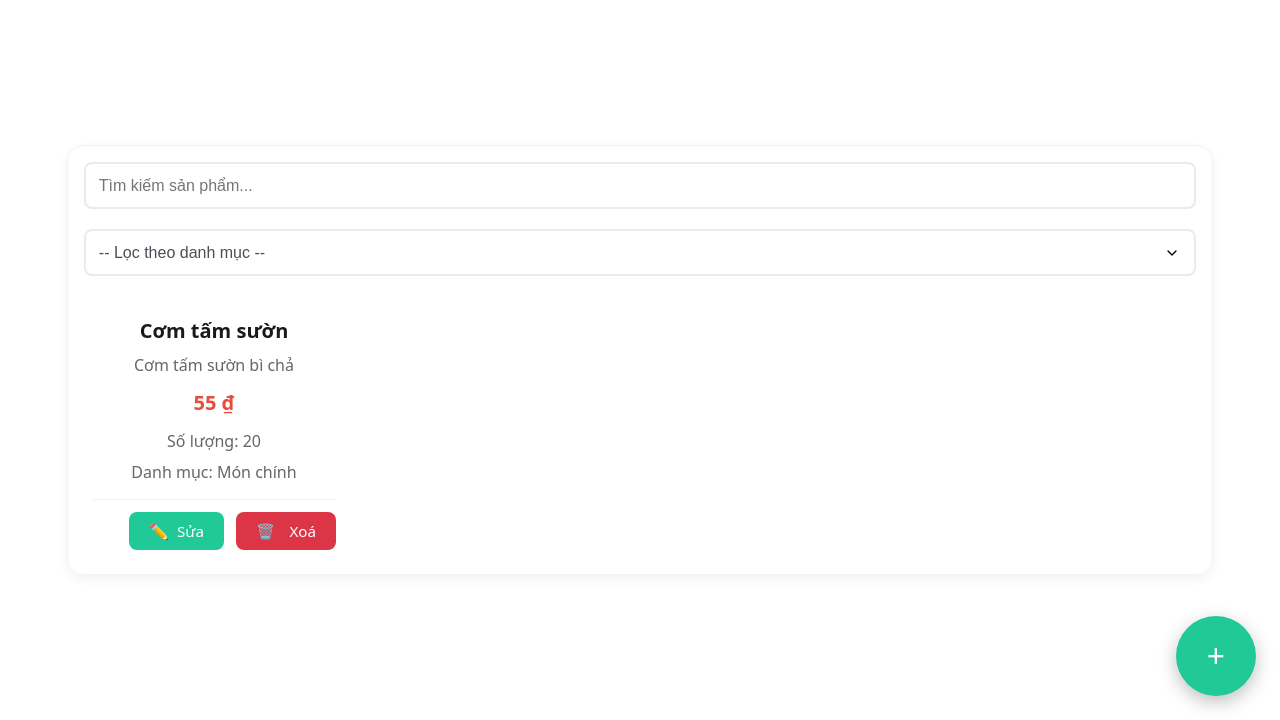
Test: ProductPage Integration Test › Xem chi tiết sản phẩm
The image size is (1280, 720).
Click the button with test id "edit-btn-100" at (177, 531), box x1=129 y1=512 x2=224 y2=550
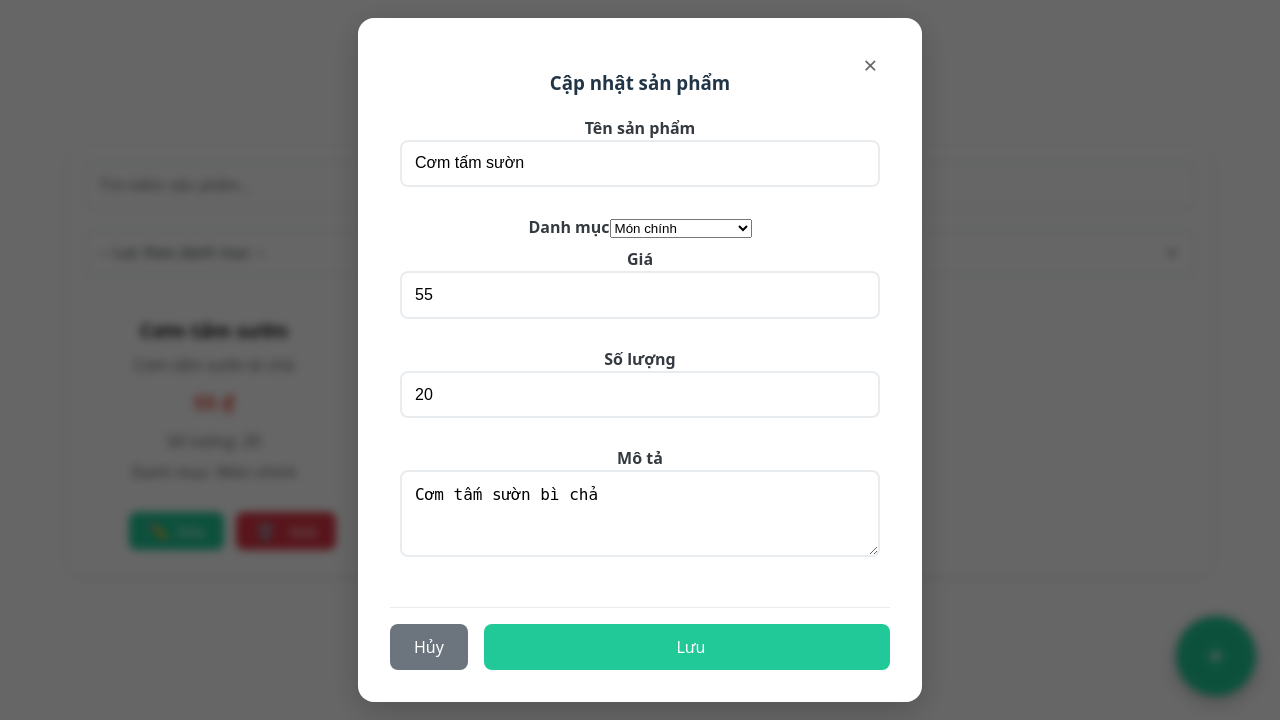
Expected: the field labelled "Tên sản phẩm" is shown, x1=400 y1=140 x2=880 y2=187
